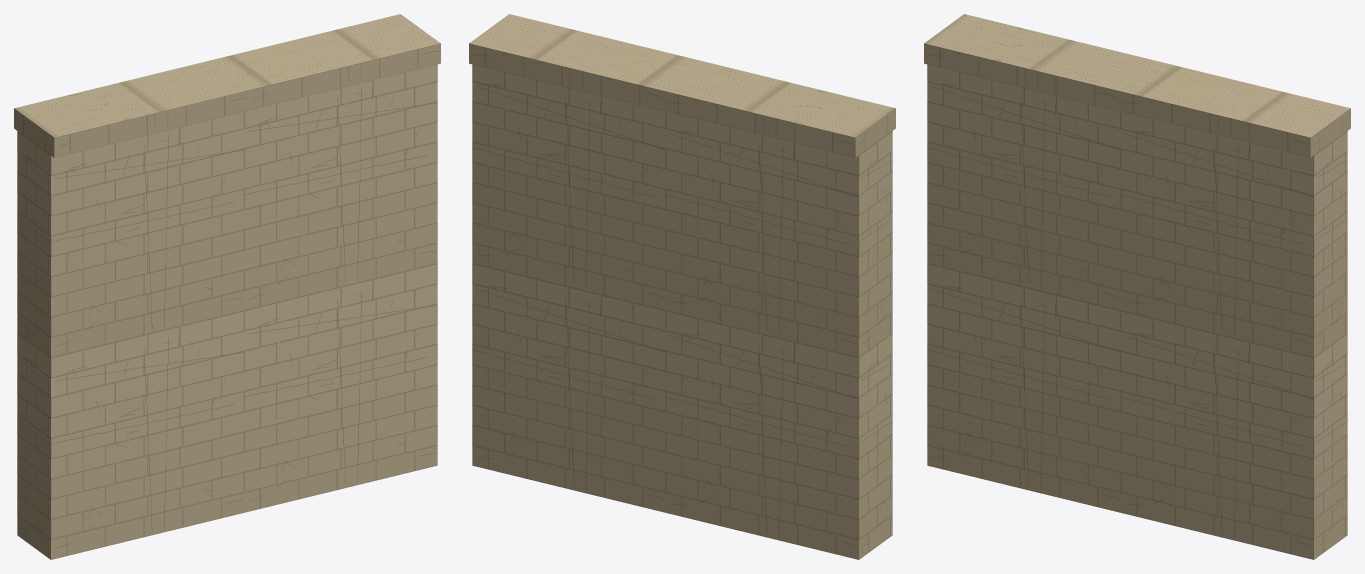
File: wall_2m.obj
3 views of the same model, side by side, from view 1: azimuth 30°, elevation 25°; view 2: azimuth 150°, elevation 25°; view 3: azimuth 330°, elevation 25° (orthographic).
Parts seen in each view (by area): view 1: wall_2m; view 2: wall_2m; view 3: wall_2m.
Part boxes in pixels (bbox=[...]): wall_2m: bbox=[14, 14, 440, 559]; wall_2m: bbox=[469, 14, 895, 559]; wall_2m: bbox=[924, 14, 1350, 559].
Bounding box in the file's own units: 2 × 2.1 × 0.36.
1 material, 1 textured.
